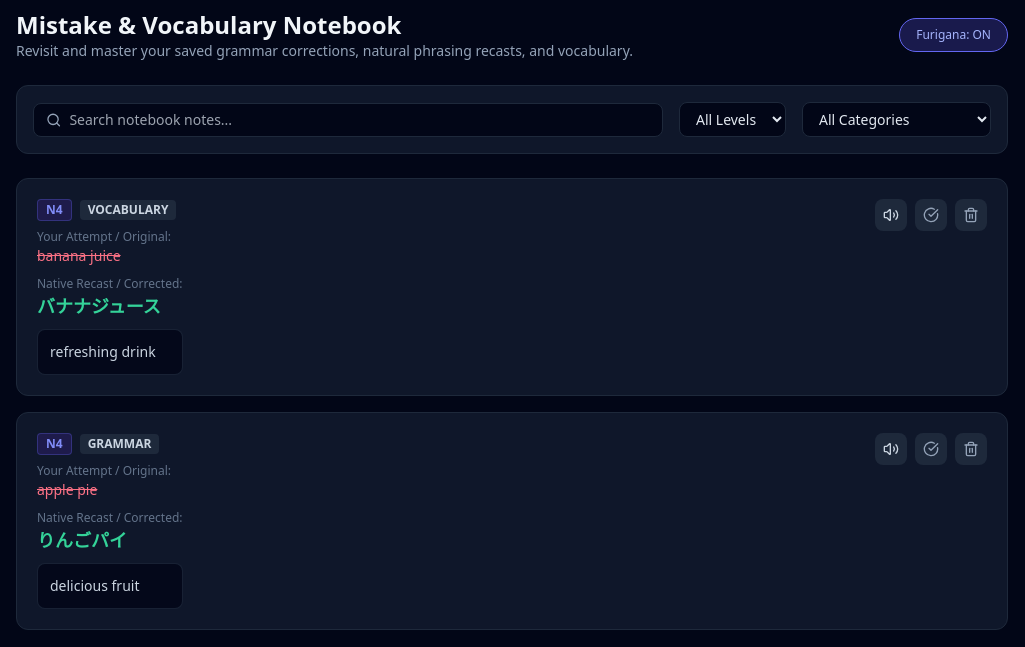
Test: NotebookView › searches items by query string
The image size is (1025, 647).
Expected: the text "apple pie" is shown, [37,480,97,499]
Expected: the text "banana juice" is shown, [37,246,121,265]
In the field with placeholder "Search notebook notes...": (360, 120) [69,110,650,130], type "banana"
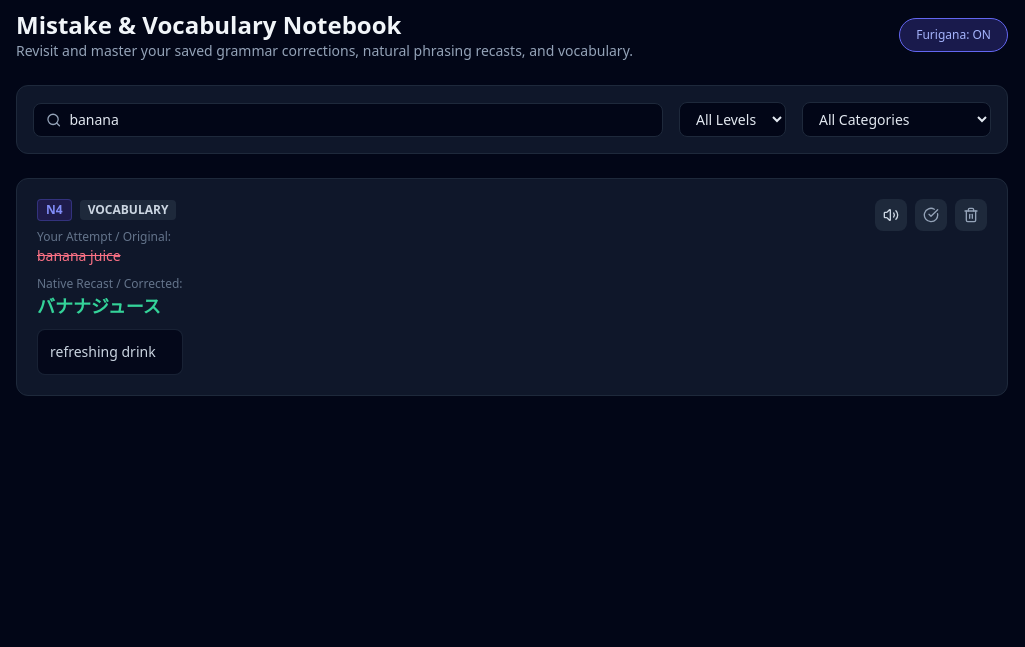
Expected: the text "banana juice" is shown, [37,246,121,265]
Result: the text "apple pie" is gone
